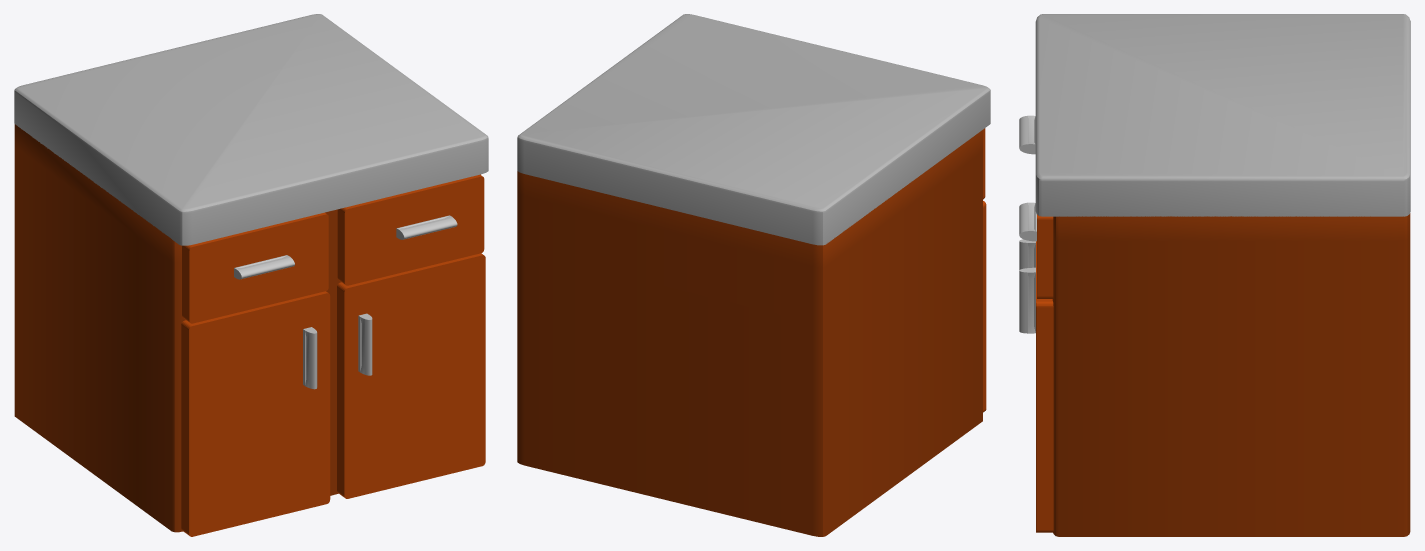
The model's file is ShortCupBoard.fbx.
3 renders of one model, left to right at view 1: azimuth 30°, elevation 25°; view 2: azimuth 150°, elevation 25°; view 3: azimuth 270°, elevation 25°, orthographic. The views are drawn at different scales.
Visible parts, largest first — view 1: Short_Cupboard; view 2: Short_Cupboard; view 3: Short_Cupboard.
Part boxes in pixels (x1,y1,x2,y2): Short_Cupboard: (14,14,488,536); Short_Cupboard: (517,14,990,536); Short_Cupboard: (1019,14,1410,536).
Size of the model in its own units: 82.89 by 84.01 by 82.93.
Materials: 1 (1 with a texture image).
